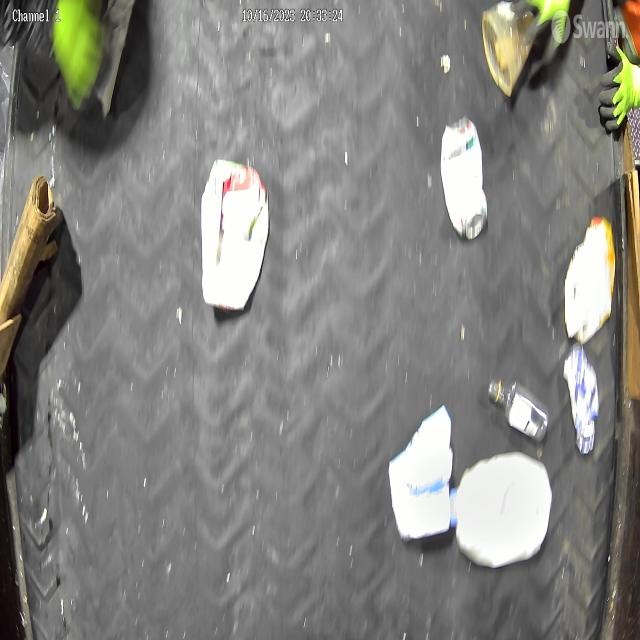can: (442, 111, 488, 242)
milk_jug: (450, 450, 552, 571), (201, 158, 271, 311)
plastic_bottle: (488, 378, 549, 442)
